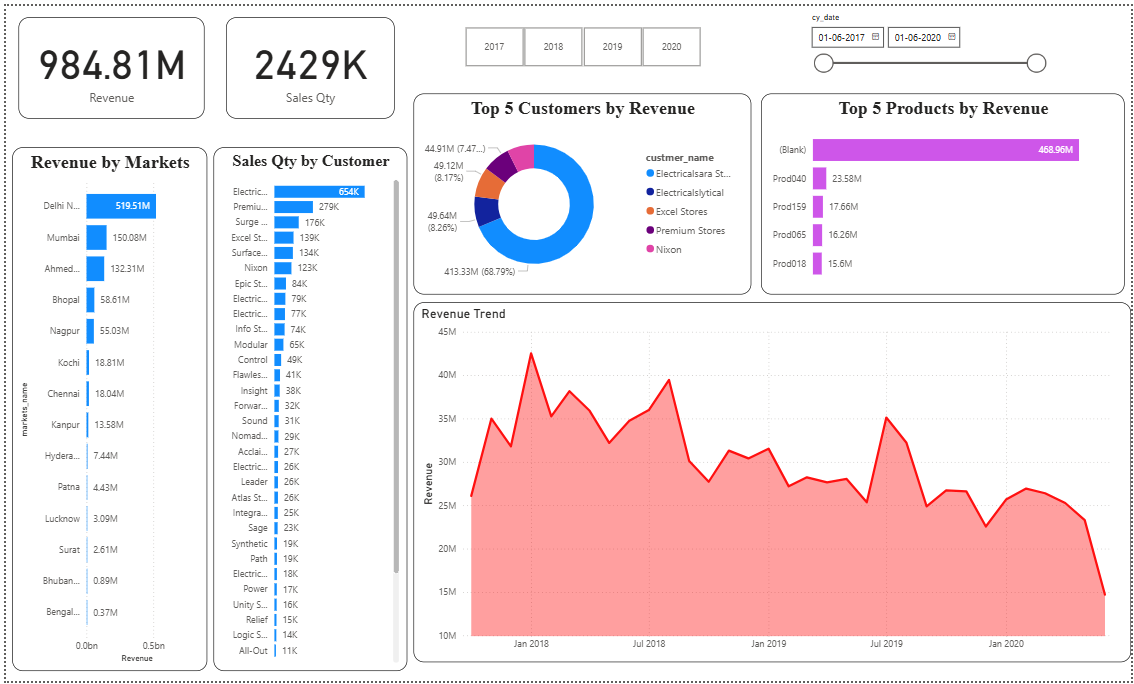

The page's visual inventory and layout, read from the dashboard file:
{"tool":"powerbi","page":{"name":"Page 1","canvas":[1500,900],"ordinal":0},"visuals":[{"type":"card","fields":{"Values":["Base measures.Revenue"]},"box":[16.7,15,248.3,135],"z":0},{"type":"card","fields":{"Values":["Base measures.Sales Qty"]},"box":[293.3,15,225,135],"z":1000},{"type":"clusteredBarChart","title":"Revenue by Markets","fields":{"Category":["sales markets.markets_name"],"Y":["Base measures.Revenue"]},"box":[8.3,188.3,260,698.3],"z":2000},{"type":"clusteredBarChart","title":"Sales Qty by Customer","fields":{"Y":["Base measures.Sales Qty"],"Category":["sales customers.custmer_name"]},"box":[276.7,188.3,258.3,698.3],"z":3000},{"type":"slicer","fields":{"Values":["sales date.year"]},"box":[586.7,21.7,363.3,65],"z":4000},{"type":"slicer","fields":{"Values":["sales date.cy_date"]},"box":[1061.7,3.3,333.3,101.7],"z":5000},{"type":"donutChart","title":"Top 5 Customers by Revenue ","fields":{"Category":["sales customers.custmer_name"],"Y":["Base measures.Revenue"]},"box":[543.3,117.4,450,268.3],"z":6000},{"type":"clusteredBarChart","title":"Top 5 Products by Revenue ","fields":{"Y":["Base measures.Revenue"],"Category":["sales products.product_code"]},"box":[1006.7,117.4,485,268.3],"z":7000},{"type":"areaChart","title":"Revenue Trend","fields":{"Category":["sales date.cy_date.Variation.Date Hierarchy.Year","sales date.cy_date.Variation.Date Hierarchy.Quarter","sales date.cy_date.Variation.Date Hierarchy.Month","sales date.cy_date.Variation.Date Hierarchy.Day"],"Y":["Base measures.Revenue"]},"box":[543.3,395,956.7,480],"z":8000}]}

Visuals, with their boxes in screenshot pixels (x1, y1, x2, y2), scaled from the page's 1500x900 canvas onto the 1134x684 screenshot:
card - Base measures.Revenue: box(13, 11, 200, 114)
card - Base measures.Sales Qty: box(222, 11, 392, 114)
"Revenue by Markets" clusteredBarChart: box(6, 143, 203, 674)
"Sales Qty by Customer" clusteredBarChart: box(209, 143, 404, 674)
slicer - sales date.year: box(444, 16, 718, 66)
slicer - sales date.cy_date: box(803, 3, 1055, 80)
"Top 5 Customers by Revenue " donutChart: box(411, 89, 751, 293)
"Top 5 Products by Revenue " clusteredBarChart: box(761, 89, 1128, 293)
"Revenue Trend" areaChart: box(411, 300, 1133, 665)
